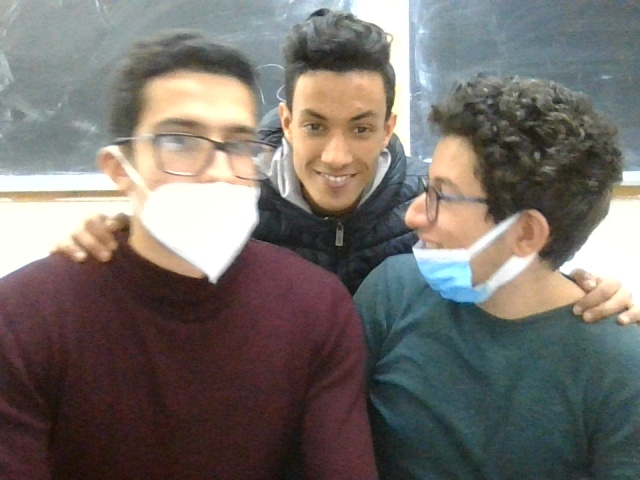mask_weared_incorrect: (409, 72, 592, 304)
without_mask: (273, 20, 405, 208)
